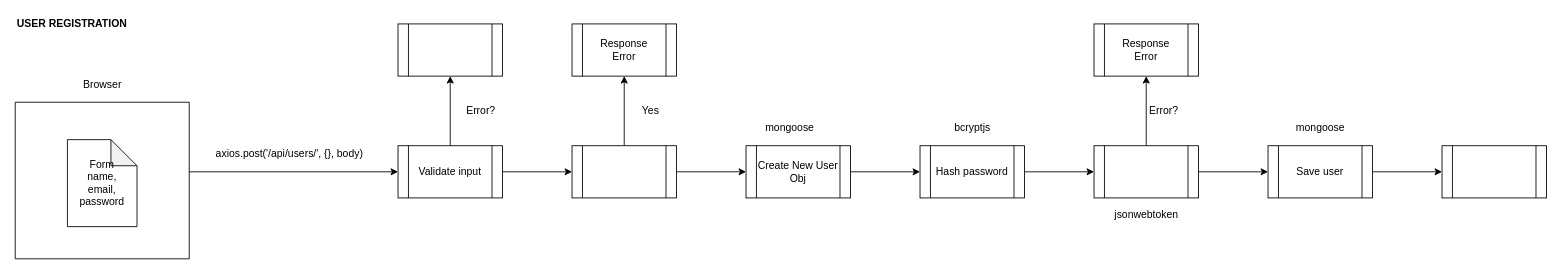
Some shapes in this 1562 by 274 pixel diagram are drawn without their labels. Each missing label, with the box of its shape:
Check if user exists already: (571, 145, 676, 198)
Response jwt: (1441, 145, 1546, 198)
Response with error: (397, 23, 502, 76)
Sign a JWT: (1093, 145, 1198, 198)
